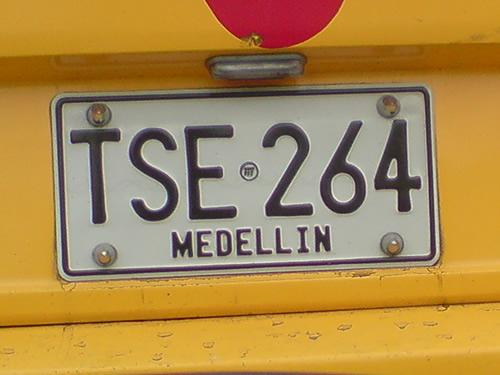placas: (46, 81, 443, 284)
